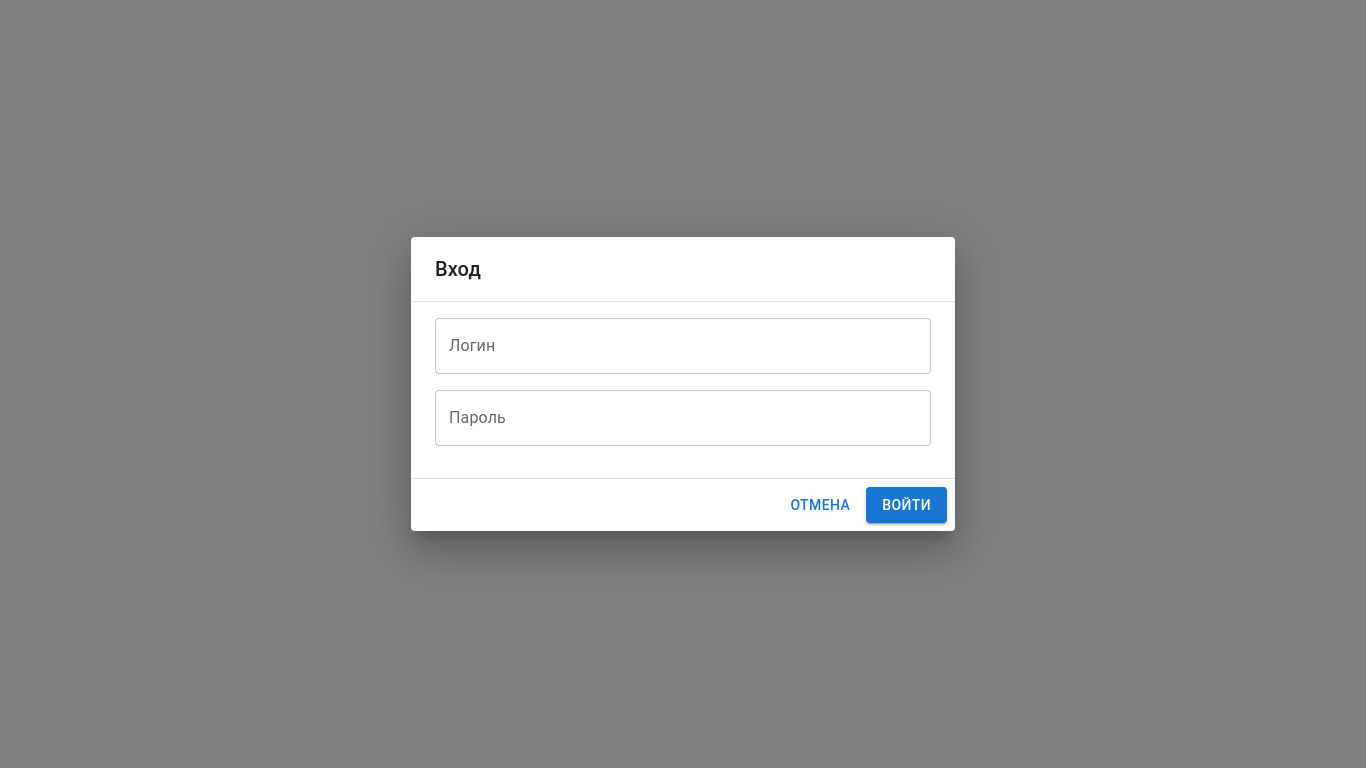
AuthDialog › Показывает ошибку при пустом вводе
Click the button "Войти".
click(907, 505)  # box [866,487,947,523]
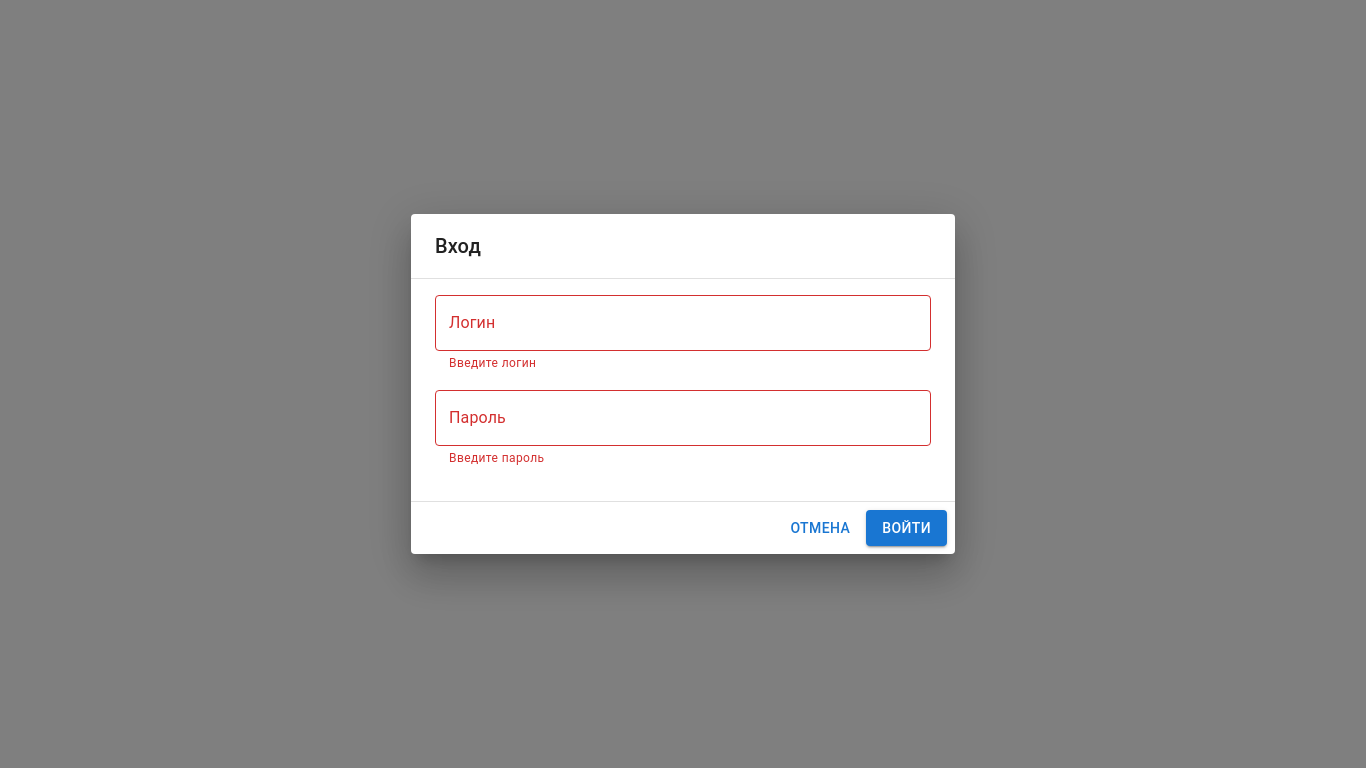
Result: the text "Введите логин" is shown at [449,356,536,370]
Result: the text "Введите пароль" is shown at [449,451,544,465]
